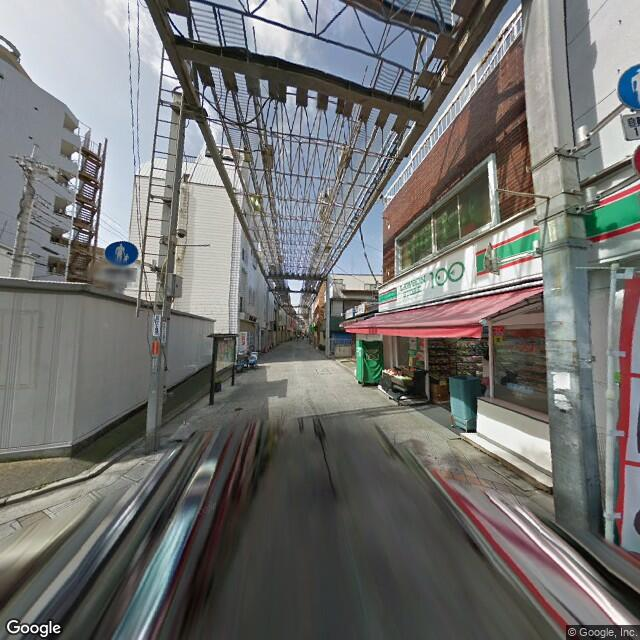lawson: (376, 181, 638, 312)
